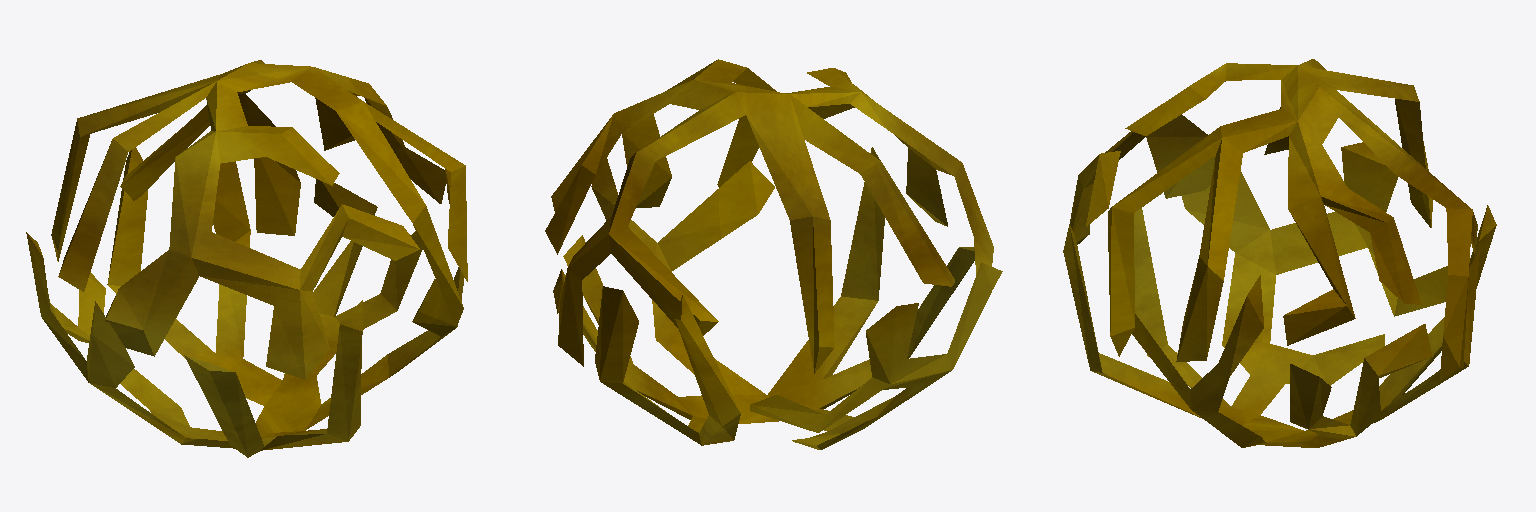
3 renders of one model, left to right at view 1: azimuth 30°, elevation 25°; view 2: azimuth 150°, elevation 25°; view 3: azimuth 270°, elevation 25°, orthographic.
Visible parts, largest first — view 1: (unnamed)_0; view 2: (unnamed)_0; view 3: (unnamed)_0.
Boxes of the visible parts, x1=… form: (unnamed)_0: x1=26, y1=60, x2=467, y2=457; (unnamed)_0: x1=545, y1=59, x2=1002, y2=449; (unnamed)_0: x1=1063, y1=59, x2=1496, y2=447.
Size of the model in its own units: 6.88 by 5.95 by 6.65.
Materials: 1 (1 with a texture image).